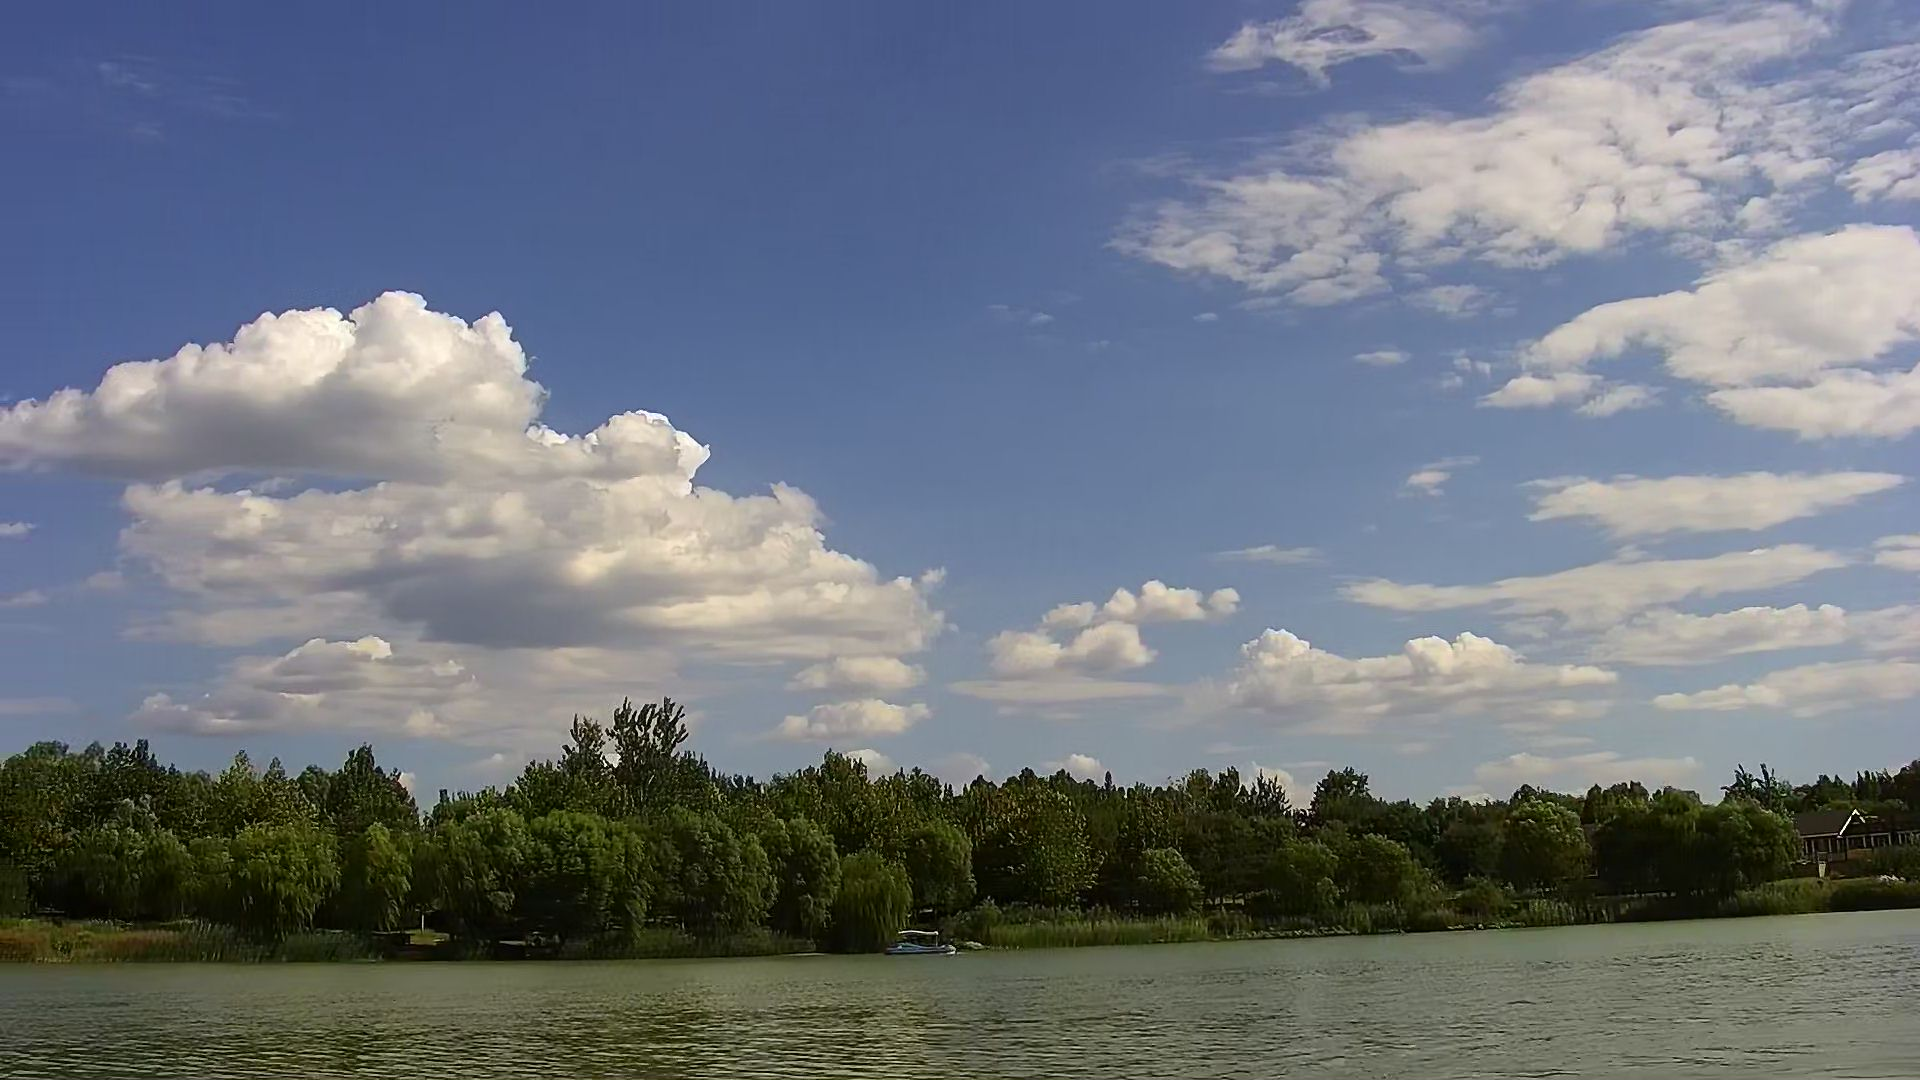boat: (876, 920, 964, 963)
